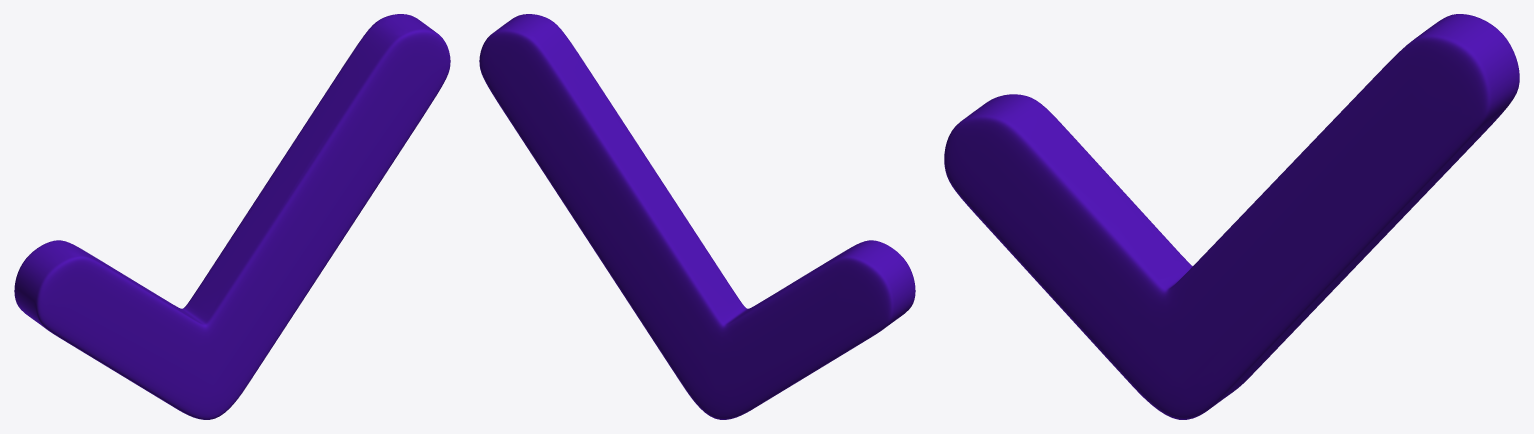
Rendered from tick.glb.
3 renders of one model, left to right at view 1: azimuth 30°, elevation 25°; view 2: azimuth 150°, elevation 25°; view 3: azimuth 330°, elevation 25°, orthographic. The views are drawn at different scales.
Parts seen in each view (by area): view 1: Tick; view 2: Tick; view 3: Tick.
Part boxes in pixels (x1,y1,x2,y2): Tick: (14, 14, 450, 419); Tick: (479, 14, 915, 419); Tick: (944, 14, 1519, 419).
Size of the model in its own units: 1.65 by 1.29 by 0.1823.
